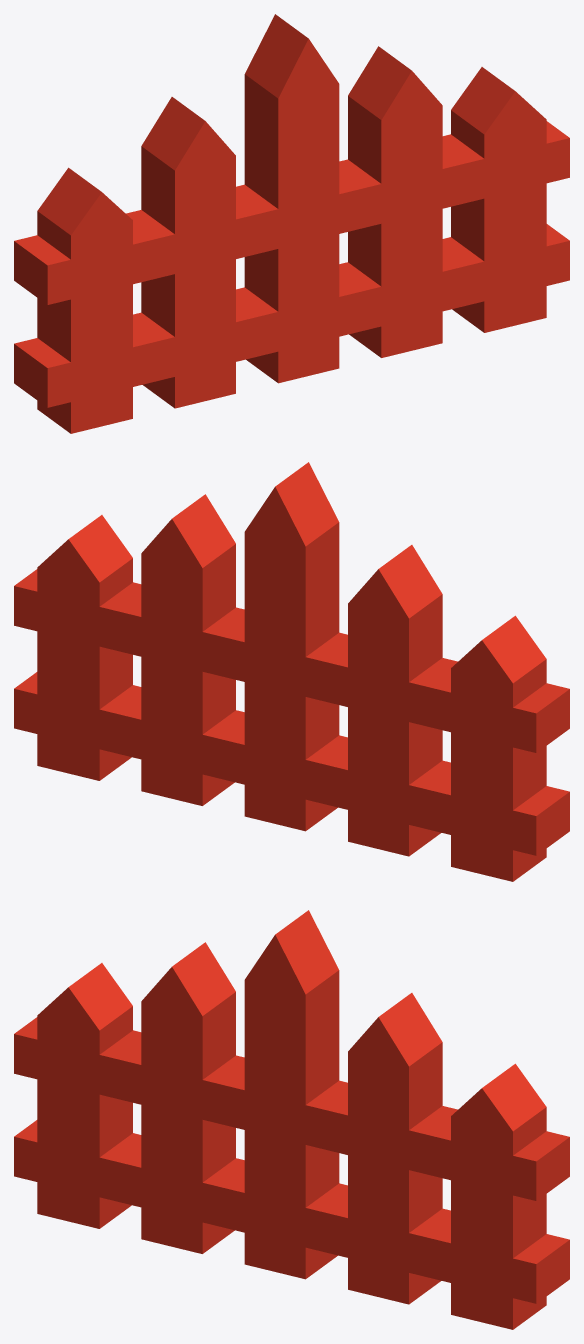
Rendered from Icon_Fence_02.fbx.
3 renders of one model, top to bottom at view 1: azimuth 30°, elevation 25°; view 2: azimuth 150°, elevation 25°; view 3: azimuth 330°, elevation 25°, orthographic.
Visible parts, largest first — view 1: Icon_Fence_02; view 2: Icon_Fence_02; view 3: Icon_Fence_02.
Part boxes in pixels (<box>): Icon_Fence_02: <box>14,14,569,433</box>; Icon_Fence_02: <box>14,462,569,881</box>; Icon_Fence_02: <box>14,910,569,1329</box>.
Bounding box in the file's own units: 108 × 66.92 × 12.06.
